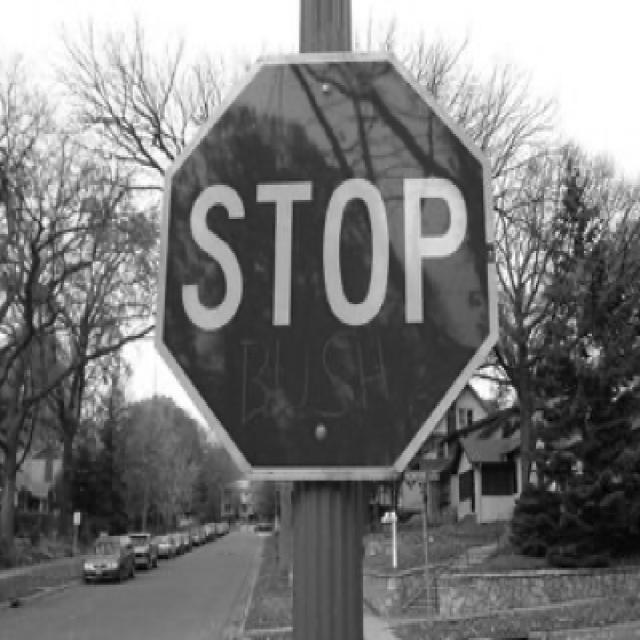Stop-signs: (156, 55, 498, 475)
